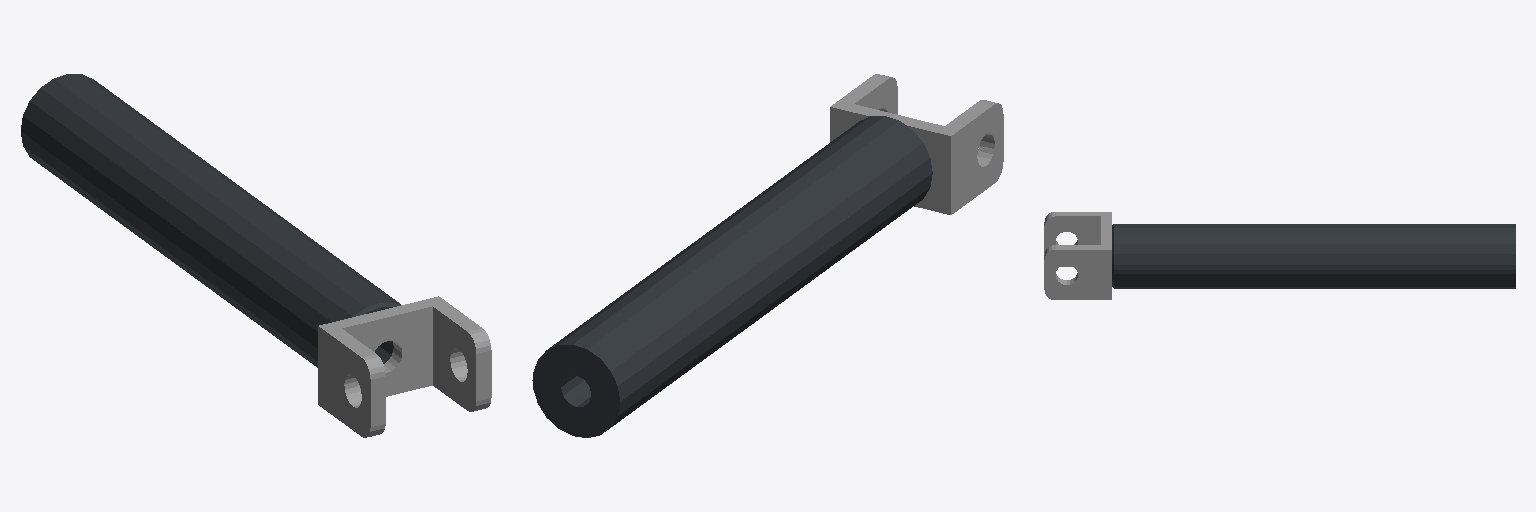
The robot description file, URDF, robot "Slider Shaft":
<?xml version="1.0" encoding="utf-8"?>
<!-- This URDF was automatically created by SolidWorks to URDF Exporter! Originally created by [author] ([email redacted]) 
     Commit Version: 1.6.0-4-g7f85cfe  Build Version: 1.6.7995.38578
     For more information, please see http://wiki.ros.org/sw_urdf_exporter -->
<robot
  name="Slider Shaft">
    <!-- Create a dummy link -->
  <link name="dummy_link"/>
  <joint name="dummy_joint" type="fixed">
    <parent link="dummy_link"/>
    <child link="ujbase"/>
  </joint>
  <link
    name="ujbase">
    <inertial>
      <origin
        xyz="-0.125 -3.6024 0.21651"
        rpy="0 0 0" />
      <mass
        value="9.9646" />
      <inertia
        ixx="0.1388"
        ixy="-5.6142E-16"
        ixz="-2.813E-17"
        iyy="0.28806"
        iyz="9.0673E-16"
        izz="0.31395" />
    </inertial>
    <visual>
      <origin
        xyz="0 0 0"
        rpy="0 0 0" />
      <geometry>
        <mesh
          filename="package://ME133a-Final-Project/meshes/ujbase.STL" />
      </geometry>
      <material
        name="">
        <color
          rgba="0.64706 0.64706 0.64706 1" />
      </material>
    </visual>
    <collision>
      <origin
        xyz="0 0 0"
        rpy="0 0 0" />
      <geometry>
        <mesh
          filename="package://meshes/ujbase.STL" />
      </geometry>
    </collision>
  </link>
  <link
    name="slidershaft">
    <inertial>
      <origin
        xyz="0 2.7756E-17 1.7096"
        rpy="0 0 0" />
      <mass
        value="104.71" />
      <inertia
        ixx="28.864"
        ixy="-6.6198E-34"
        ixz="7.6786E-18"
        iyy="28.864"
        iyz="-3.0652E-32"
        izz="1.2313" />
    </inertial>
    <visual>
      <origin
        xyz="0 0 0"
        rpy="0 0 0" />
      <geometry>
        <mesh
          filename="package://ME133a-Final-Project/meshes/slidershaft.STL" />
      </geometry>
      <material
        name="">
        <color
          rgba="0.26275 0.28235 0.30196 1" />
      </material>
    </visual>
    <collision>
      <origin
        xyz="0 0 0"
        rpy="0 0 0" />
      <geometry>
        <mesh
          filename="package://ME133a-Final-Project/meshes/slidershaft.STL" />
      </geometry>
    </collision>
  </link>
  <joint
    name="slider"
    type="fixed">
    <origin
      xyz="-0.125 -0.89 0.21651"
      rpy="1.5708 0 0" />
    <parent
      link="ujbase" />
    <child
      link="slidershaft" />
    <axis
      xyz="0 0 0" />
  </joint>
  <!--<link
    name="base">
    <inertial>
      <origin
        xyz="1.4322E-14 -8.6875E-15 0.95684"
        rpy="0 0 0" />
      <mass
        value="263.82" />
      <inertia
        ixx="98.845"
        ixy="0"
        ixz="3.2479E-16"
        iyy="98.845"
        iyz="-1.5451E-15"
        izz="10.834" />
    </inertial>
    <visual>
      <origin
        xyz="0 0 0"
        rpy="0 0 0" />
      <geometry>
        <mesh
          filename="package://ME133a-Final-Project/meshes/base.STL" />
      </geometry>
      <material
        name="">
        <color
          rgba="0.91765 0.91765 0.91765 1" />
      </material>
    </visual>
    <collision>
      <origin
        xyz="0 0 0"
        rpy="0 0 0" />
      <geometry>
        <mesh
          filename="package://ME133a-Final-Project/meshes/base.STL" />
      </geometry>
    </collision>
  </link>
  <joint
    name="sliderbase"
    type="prismatic">
    <origin
      xyz="0 0 0.075097"
      rpy="0 0 -0.82023" />
    <parent
      link="slidershaft" />
    <child
      link="base" />
    <axis
      xyz="0 0 1" />
    <limit
      lower="0"
      upper="0"
      effort="0"
      velocity="0" />
  </joint>
  <link
    name="ujtop">
    <inertial>
      <origin
        xyz="1.8874E-14 0.01 0.10245"
        rpy="0 0 0" />
      <mass
        value="9.9646" />
      <inertia
        ixx="0.31395"
        ixy="-2.8449E-16"
        ixz="8.5586E-16"
        iyy="0.1388"
        iyz="5.8331E-16"
        izz="0.28806" />
    </inertial>
    <visual>
      <origin
        xyz="0 0 0"
        rpy="0 0 0" />
      <geometry>
        <mesh
          filename="package://ME133a-Final-Project/meshes/ujtop.STL" />
      </geometry>
      <material
        name="">
        <color
          rgba="0.64706 0.64706 0.64706 1" />
      </material>
    </visual>
    <collision>
      <origin
        xyz="0 0 0"
        rpy="0 0 0" />
      <geometry>
        <mesh
          filename="package://ME133a-Final-Project/meshes/ujtop.STL" />
      </geometry>
    </collision>
  </link>
  <joint
    name="ujfixed"
    type="fixed">
    <origin
      xyz="0 0.01 0"
      rpy="3.1416 0 0" />
    <parent
      link="base" />
    <child
      link="ujtop" />
    <axis
      xyz="0 0 0" />
  </joint> -->
</robot>

--- Facts derived from the render (not from the file) ---
The picture shows the robot from 3 angles, left to right: view 1: azimuth 30°, elevation 25°; view 2: azimuth 150°, elevation 25°; view 3: azimuth 270°, elevation 25°; orthographic projection.
Model Slider Shaft with 3 links and 2 joints (2 fixed), rooted at dummy_link, posed every joint at zero.
Visible links, largest first — view 1: slidershaft, ujbase; view 2: slidershaft, ujbase; view 3: slidershaft, ujbase.
Boxes of the visible links, <box> form: slidershaft: <box>21,74,400,367</box>; ujbase: <box>318,296,491,437</box>; slidershaft: <box>532,116,932,437</box>; ujbase: <box>830,74,1003,214</box>; slidershaft: <box>1112,224,1515,288</box>; ujbase: <box>1044,212,1111,299</box>.
Bounding box of the posed robot: 0.4 × 2.1 × 0.289 m (x, y, z).
Meshes: 2 distinct files referenced, 2 mesh visuals loaded (2 binary STL).
